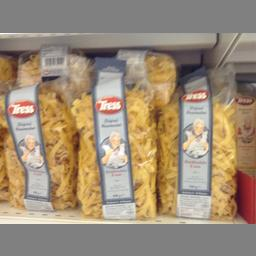pasta: (66, 66, 156, 220), (152, 72, 235, 218), (0, 81, 75, 210)
